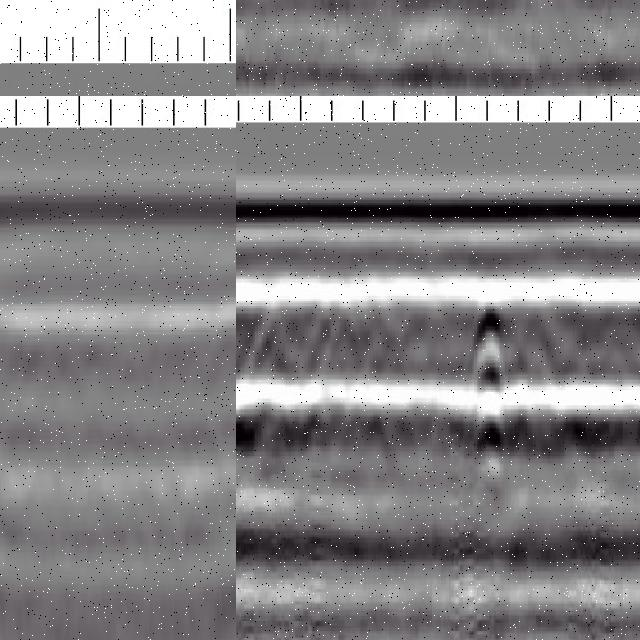crack: (460, 287, 513, 499)
loose: (296, 1, 613, 88)
